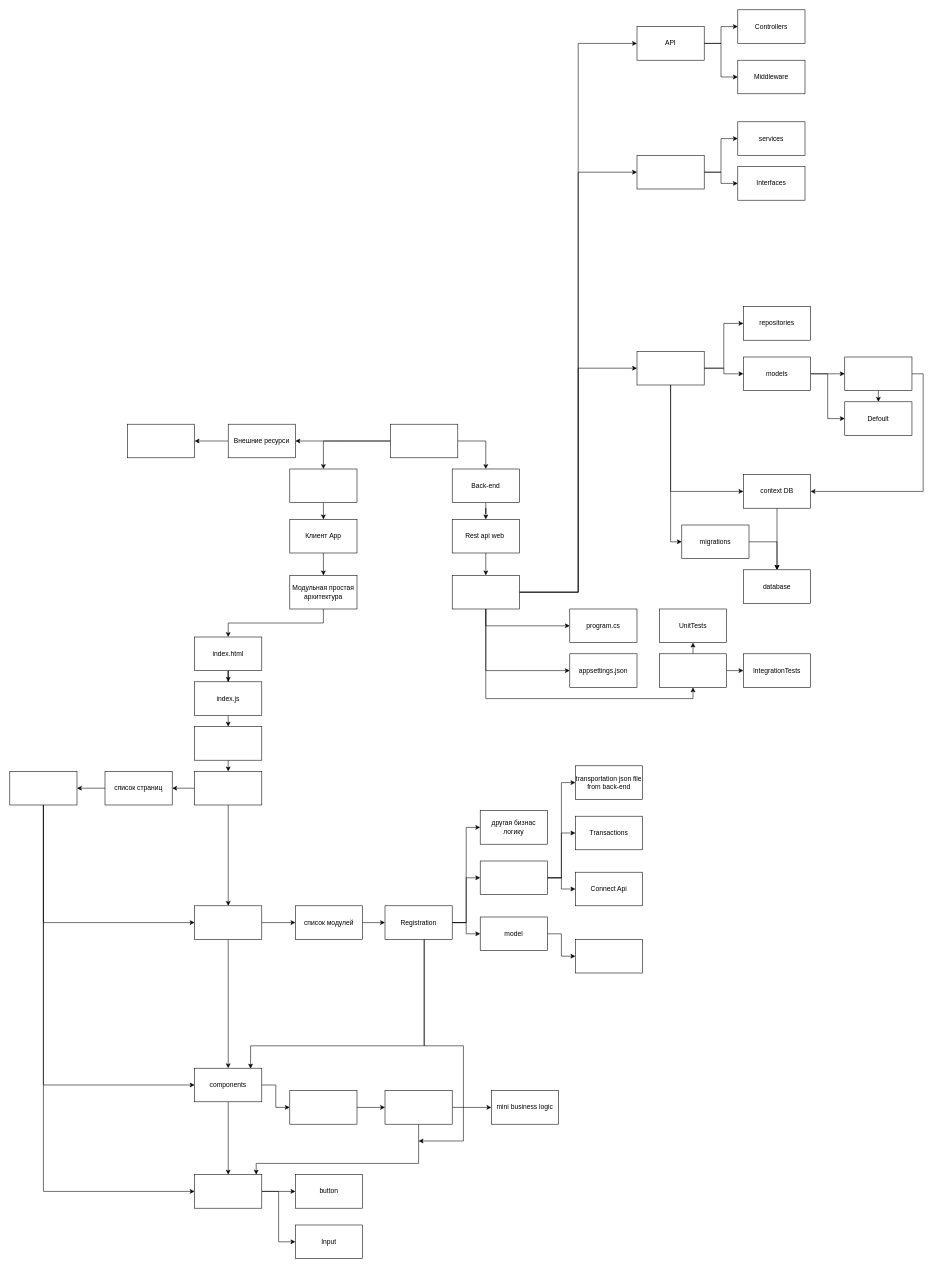
Image size: 937x1268. Some labels were removed from this diagram. Each missing label, with the centre of its shape:
(travel agent-bot): pixel 161 441
App.js: pixel 228 743
business logic: pixel 670 172
Data assest: pixel 670 368
Entities (create table): pixel 878 373
Frond-end: pixel 323 485
home: pixel 43 788
Layered Architecture: pixel 485 592
modules: pixel 228 922
Object User trancver json file: pixel 609 956
pages: pixel 228 788
service: pixel 513 877
tests: pixel 693 670
ui: pixel 228 1191
UserCard: pixel 418 1107
Клиент- серверна архетектура: pixel 424 441
список компонентов: pixel 323 1107
